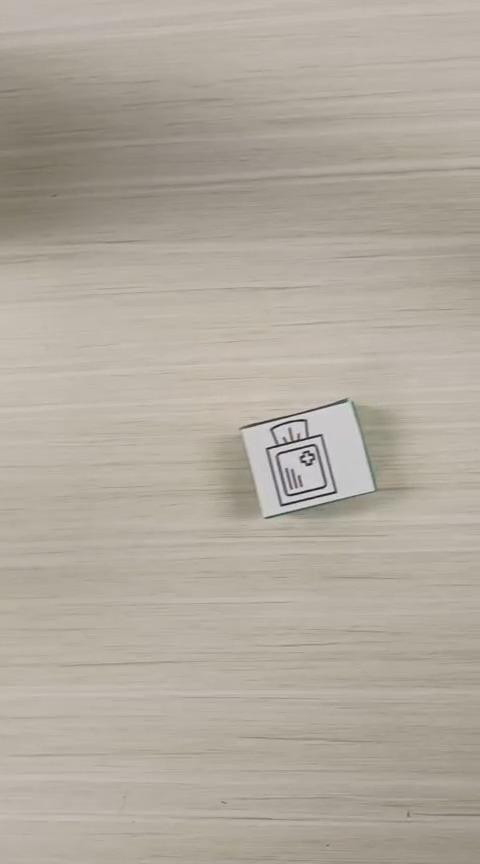Gauze: (237, 396, 376, 519)
